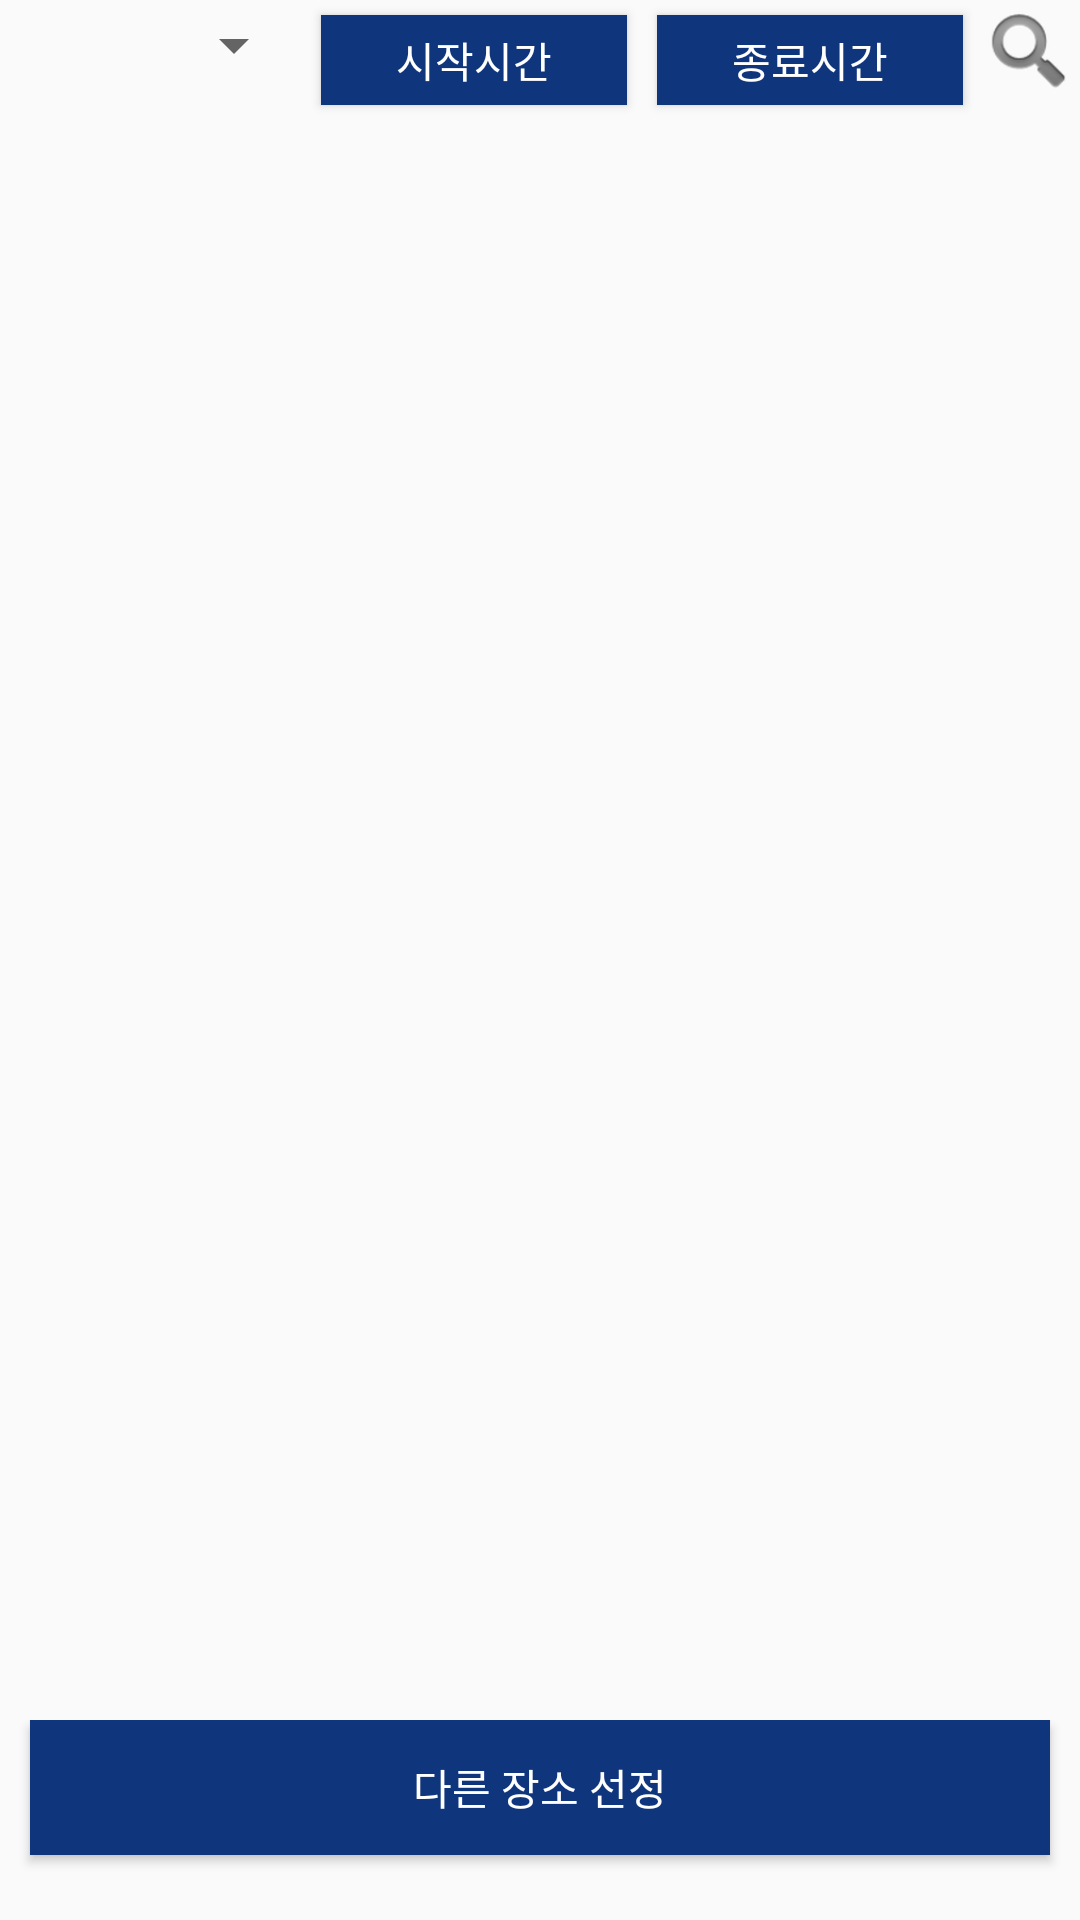

Icon click points for this 1080px x 1920px phone screenshot, format (x,y):
search category: (1028,50)
